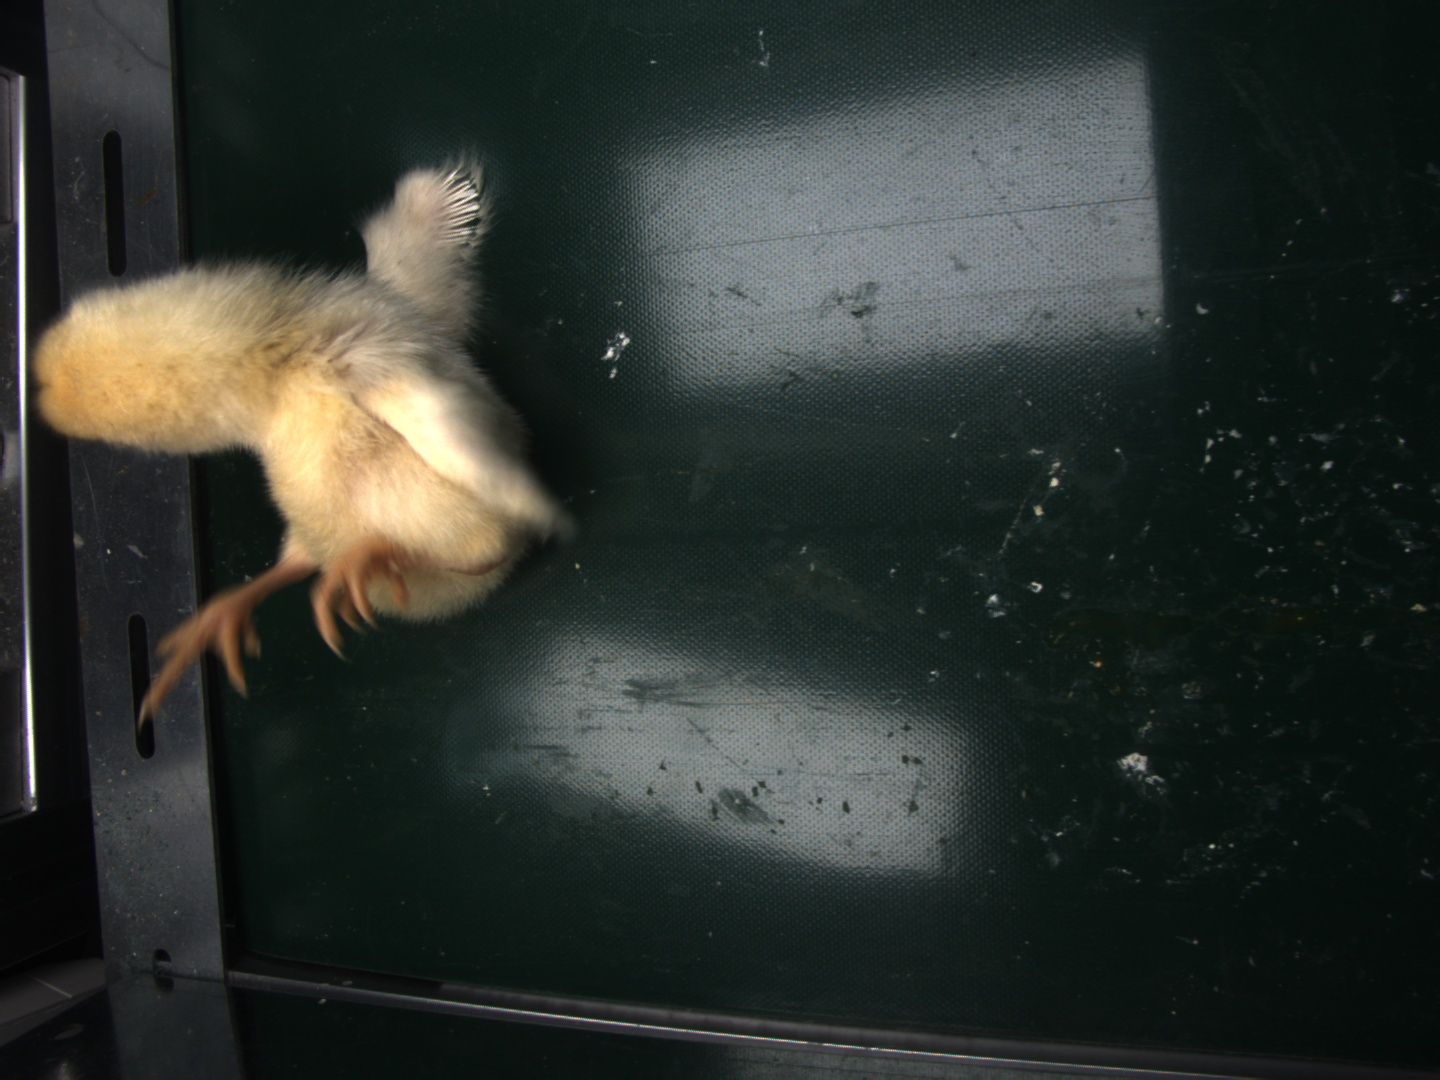male: (438, 168, 482, 242)
